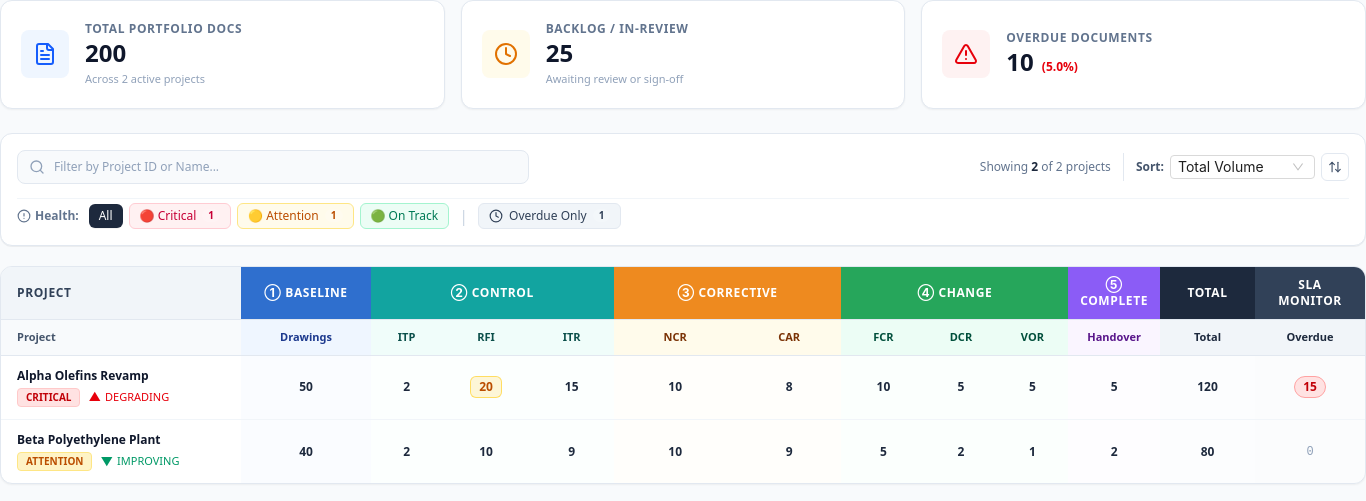
OverviewTab Component - Search Filtering › restores all projects when search input is cleared
The image size is (1366, 501).
Type "Alpha" into the field with placeholder "Filter by Project ID or Name...". click: (273, 166)
box: [17, 150, 529, 184]
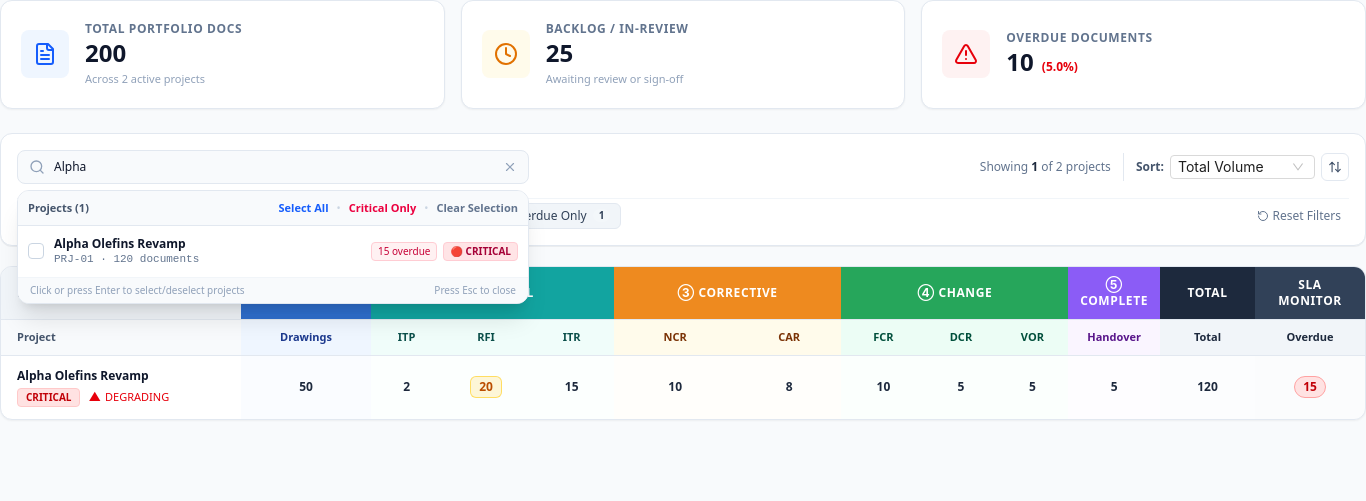
Expected: the text "Showing 1 of 2 projects" is shown, [980, 158, 1111, 174]
Clear the field with placeholder "Filter by Project ID or Name...". click: (273, 166)
box: [17, 150, 529, 184]
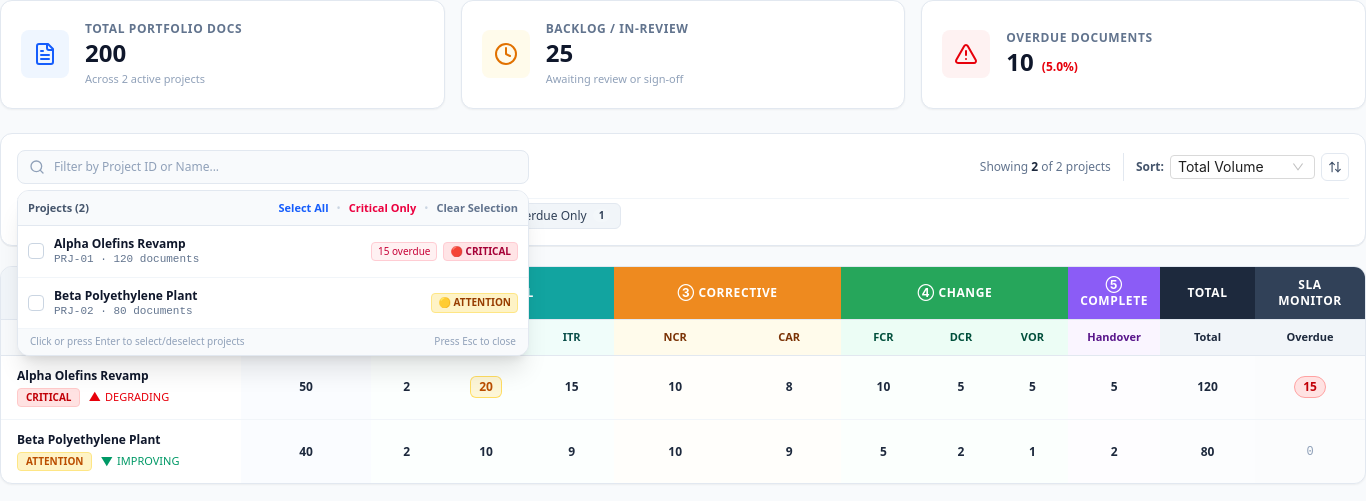
Expected: the row with test id "project-matrix-row-PRJ-01" is shown, [1, 355, 1365, 419]
Expected: the text "Showing 2 of 2 projects" is shown, [980, 158, 1111, 174]
Expected: the row with test id "project-matrix-row-PRJ-02" is shown, [1, 419, 1365, 483]
